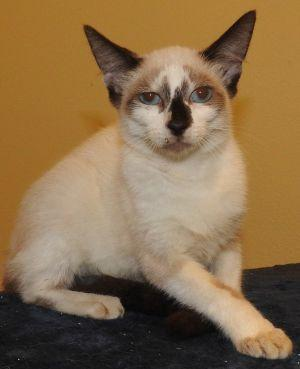siamese: (81, 1, 262, 182)
